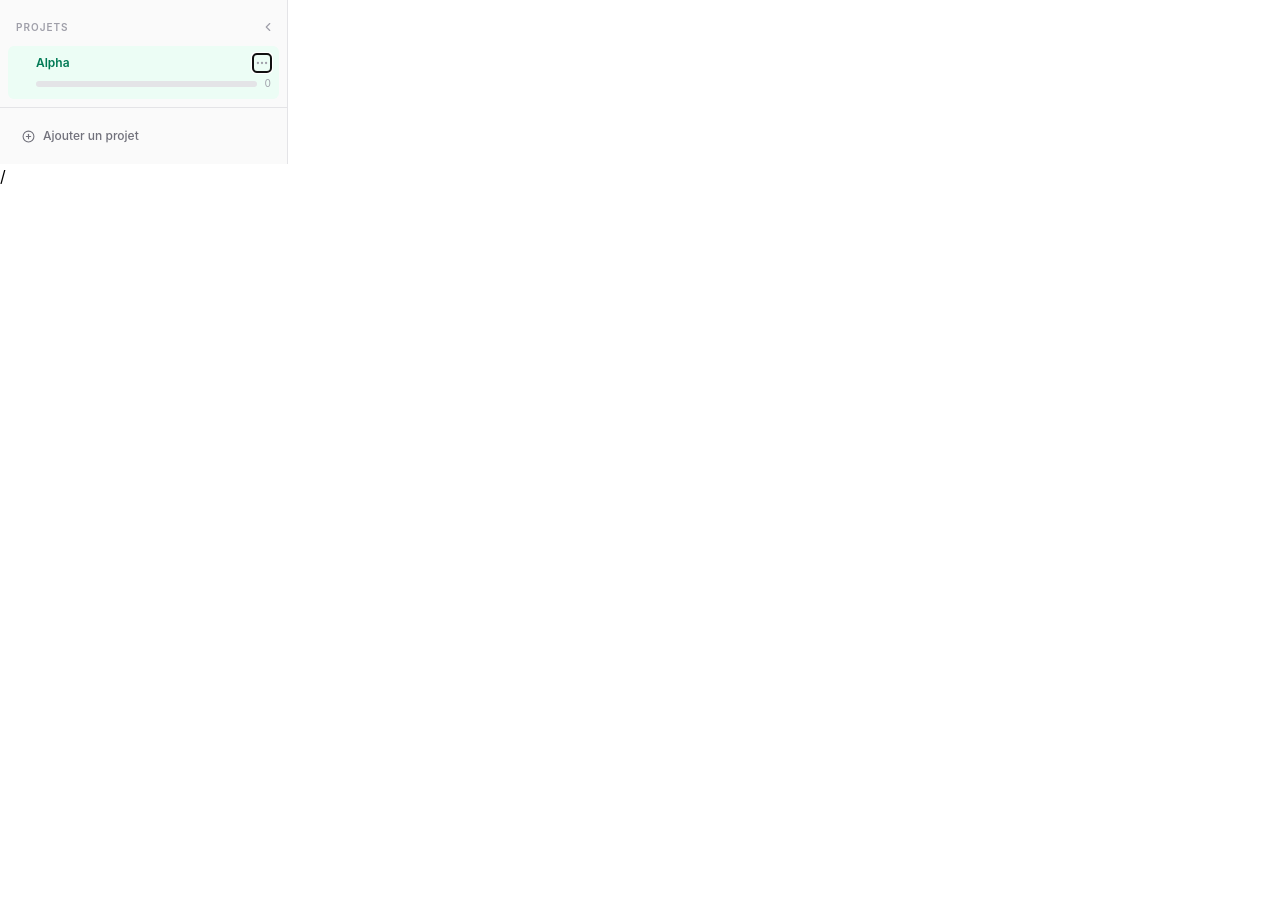
Test: WorkspaceSidebar › actions menu and removal › does nothing when cancelled
Step 1. Press Enter in the button named "Actions du projet Alpha", box [253,54,271,72]
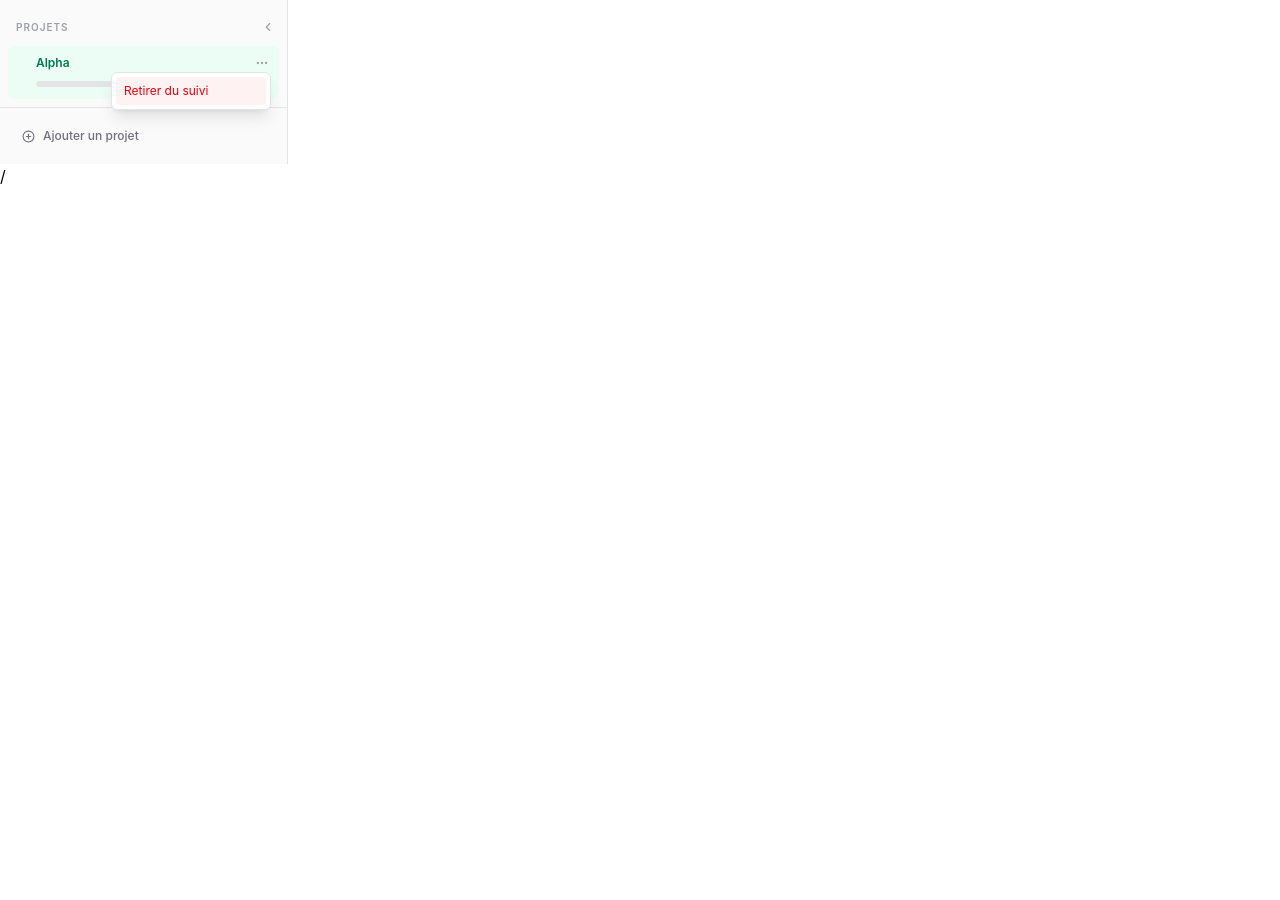
Step 2. Click the menu item "Retirer du suivi" → point(191, 91), box [116,77,266,105]
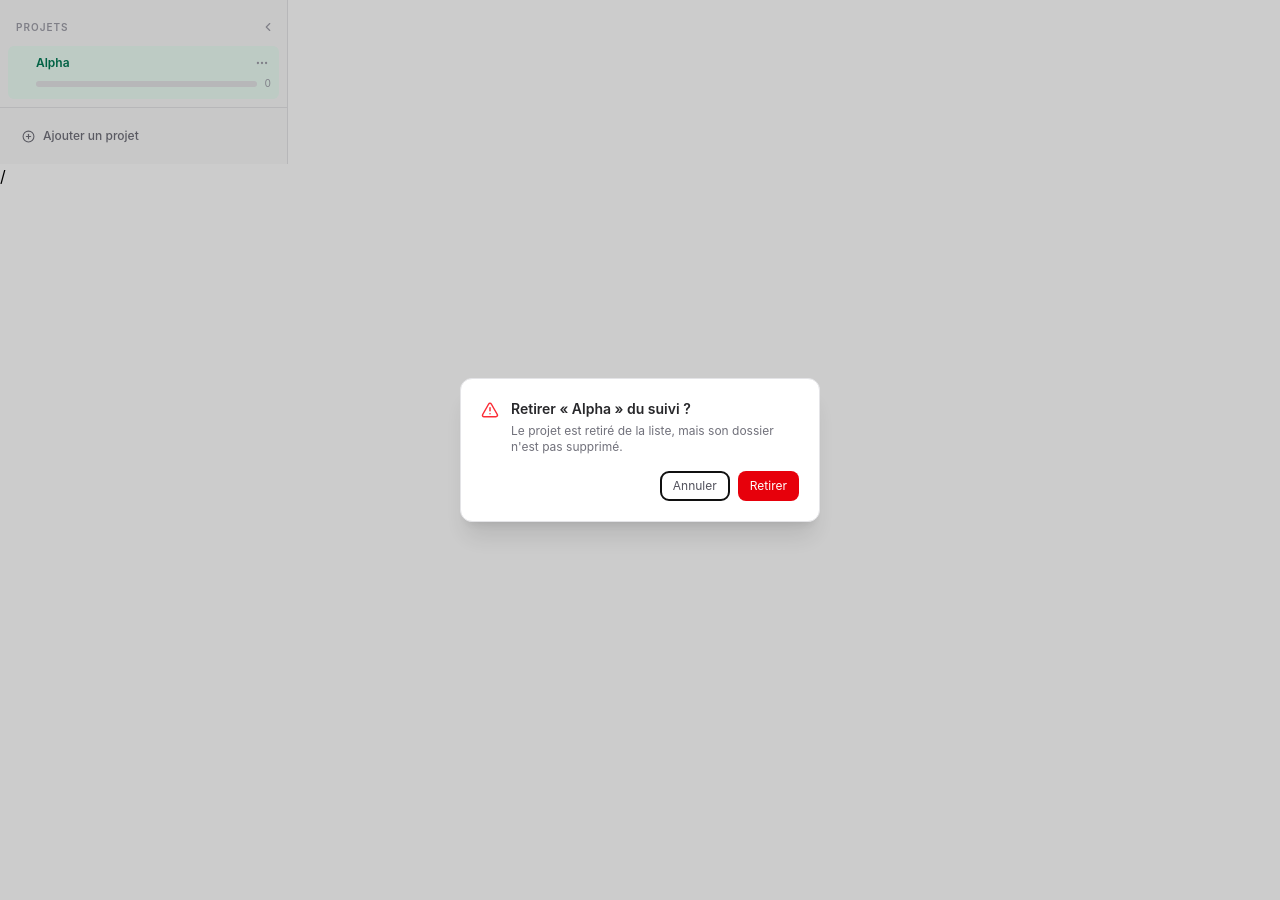
Step 3. Click the button "Annuler" → point(695, 486), box [660,471,730,501]
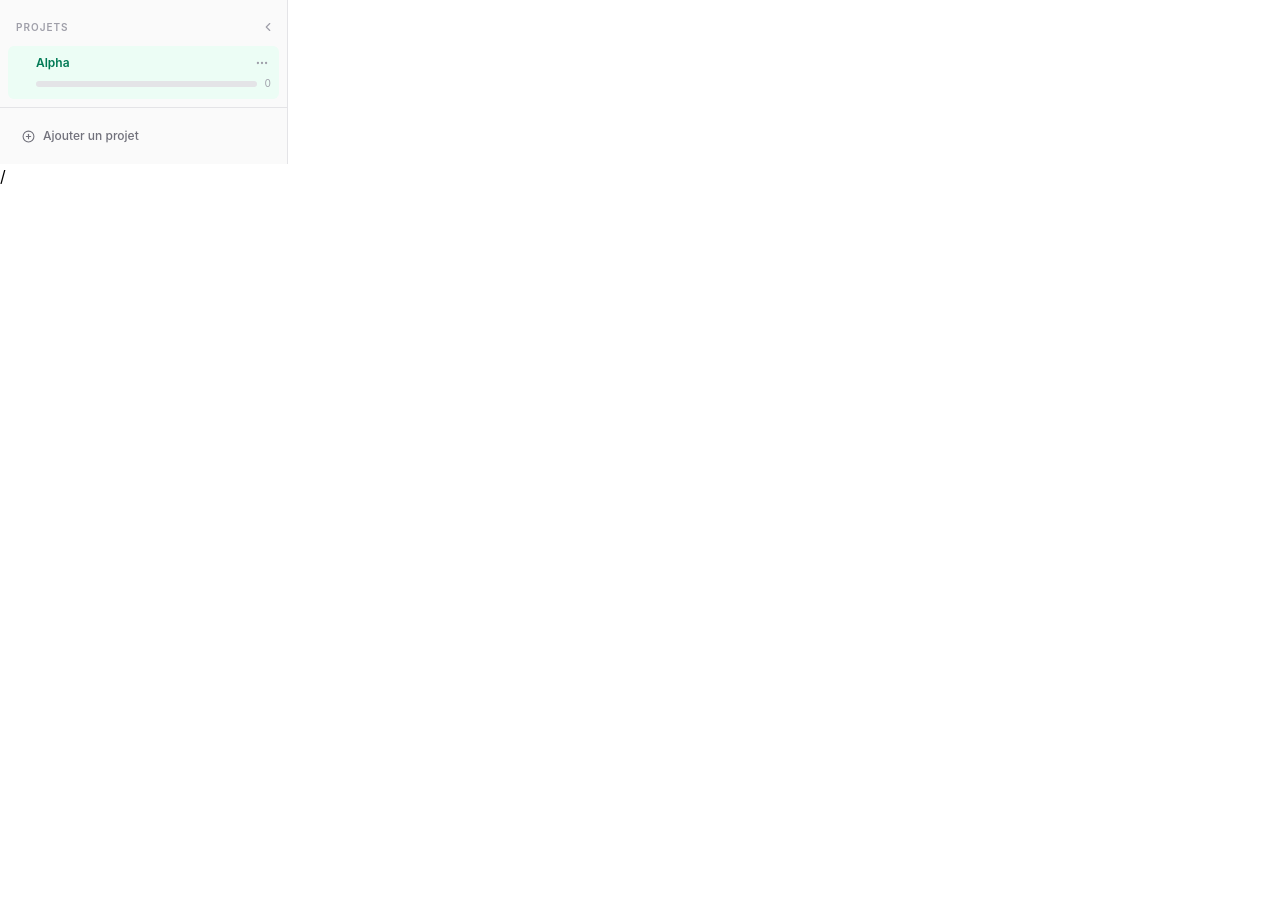
Check: the dialog is gone
